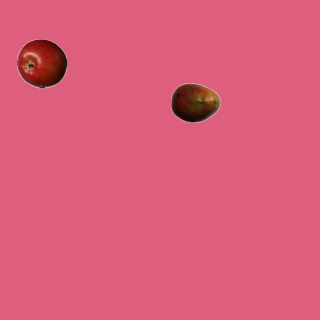Apple Braeburn: (16, 38, 66, 88)
Mango Red: (170, 77, 220, 127)
